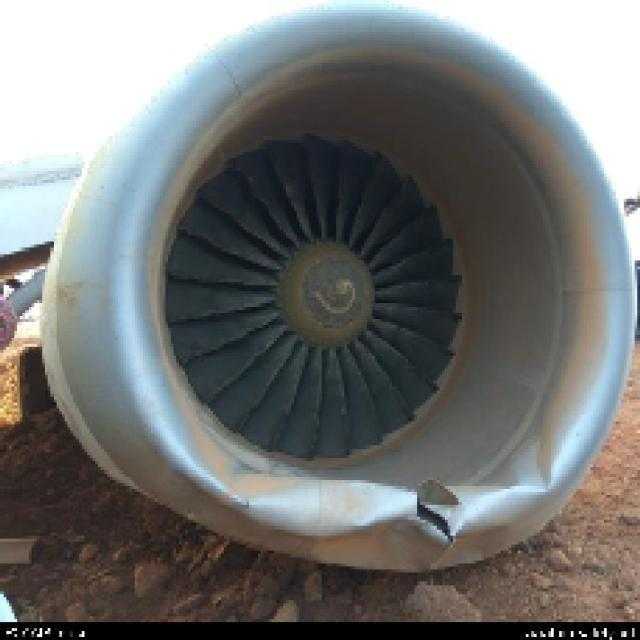crack: (412, 498, 457, 548)
dent: (250, 479, 416, 539), (502, 435, 562, 497)
